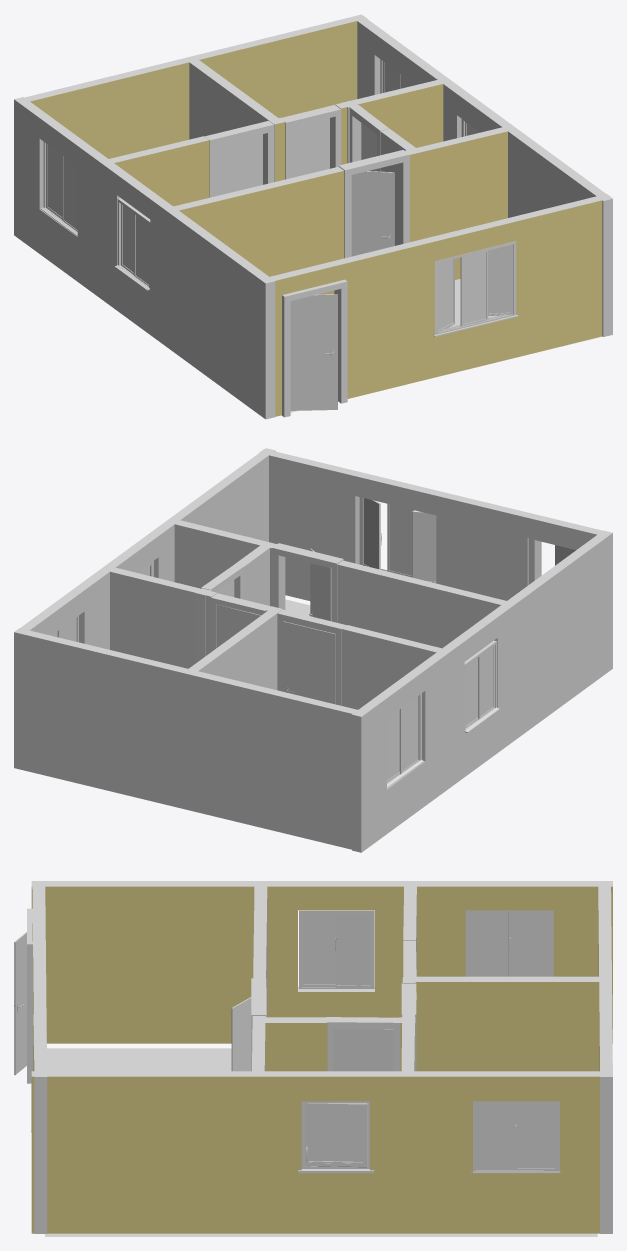
The model's file is 3d rchietecture model.fbx.
3 renders of one model, top to bottom at view 1: azimuth 30°, elevation 25°; view 2: azimuth 150°, elevation 25°; view 3: azimuth 270°, elevation 25°, orthographic. The views are drawn at different scales.
Parts seen in each view (by area): view 1: Wall, Wall.002, Wall.005, Wall.001, Wall.003, Wall.006, Panel, Wall.004, Panel.001, Door, Door.001, Panel.002 (+14 smaller); view 2: Wall.001, Wall, Wall.002, Wall.005, Wall.006, Wall.003, Wall.004, Panel.002, Wall.007, Door.001, Window Panel.001, Door.002 (+12 smaller); view 3: Wall.003, Wall, Wall.004, Plane, Wall.002, Wall.001, Window Panel.007, Wall.007, Window Panel.005, Window Panel.008, Window Panel.003, Window Panel.006 (+15 smaller).
Boxes of the visible parts, x1,y1,x2,y2 form: Wall: (14, 97, 275, 419); Wall.002: (264, 194, 611, 416); Wall.005: (166, 127, 507, 294); Wall.001: (17, 14, 367, 158); Wall.003: (357, 18, 612, 336); Wall.006: (102, 80, 443, 206); Panel: (290, 294, 337, 410); Wall.004: (189, 60, 282, 139); Panel.001: (351, 171, 394, 256); Door: (282, 279, 347, 417); Door.001: (338, 150, 409, 258); Panel.002: (216, 134, 262, 195); Wall.001: (14, 628, 365, 849); Wall: (352, 530, 612, 852); Wall.002: (259, 449, 610, 600); Wall.005: (174, 520, 513, 648); Wall.006: (110, 567, 448, 709); Wall.003: (14, 448, 275, 770); Wall.004: (189, 607, 282, 690); Panel.002: (283, 621, 335, 704); Wall.007: (195, 541, 274, 663); Door.001: (272, 543, 343, 622); Window Panel.001: (387, 504, 414, 577); Door.002: (277, 609, 346, 705); Wall.003: (31, 1071, 599, 1233); Wall: (31, 881, 612, 1043); Wall.004: (404, 976, 599, 1071); Plane: (45, 1048, 597, 1236); Wall.002: (32, 882, 47, 1233); Wall.001: (598, 882, 612, 1233); Window Panel.007: (305, 1103, 367, 1167); Wall.007: (253, 1017, 415, 1071); Window Panel.005: (508, 911, 551, 976); Window Panel.008: (515, 1103, 556, 1170); Window Panel.003: (335, 913, 371, 987); Window Panel.006: (468, 911, 508, 976).
Bounding box in the file's own units: 639 × 249 × 817.
